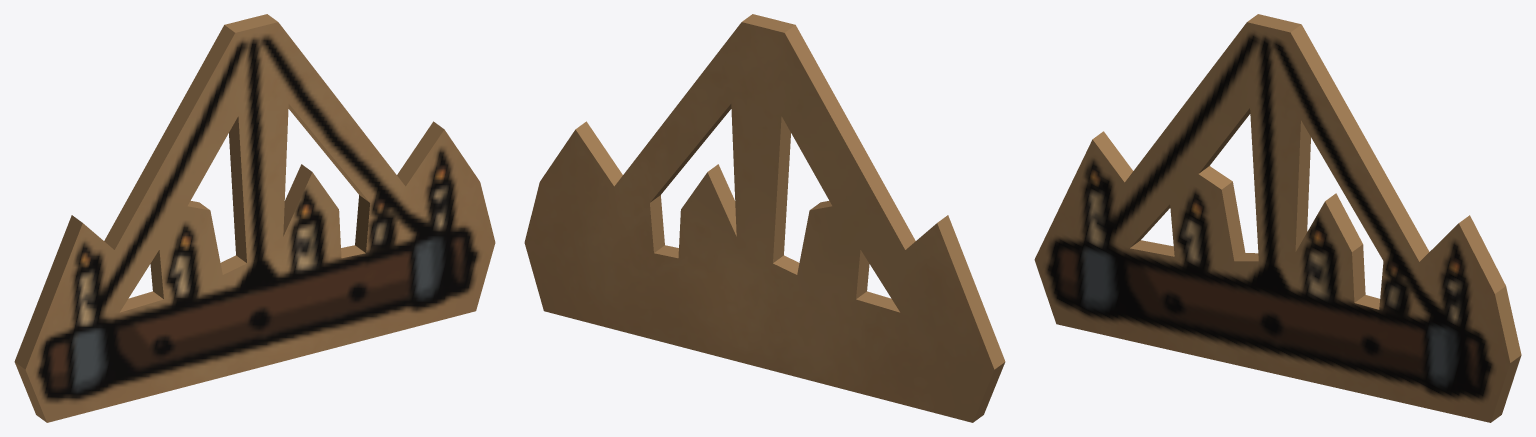
File: SM_Lustre_VF.fbx
The picture shows the model from 3 angles, left to right: view 1: azimuth 30°, elevation 25°; view 2: azimuth 150°, elevation 25°; view 3: azimuth 330°, elevation 25°; orthographic projection.
Parts seen in each view (by area): view 1: Lustre; view 2: Lustre; view 3: Lustre.
Part boxes in pixels (<box>): Lustre: <box>14,14,495,422</box>; Lustre: <box>524,14,1005,422</box>; Lustre: <box>1034,14,1521,422</box>.
Bounding box in the file's own units: 138 × 96.38 × 5.59.
